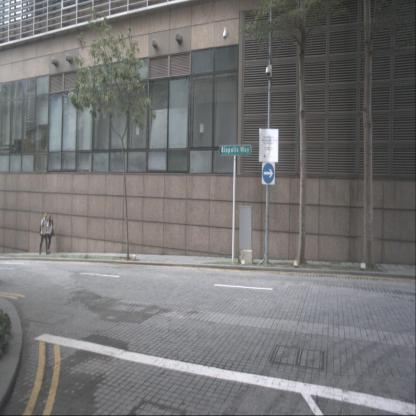human-pedestrian-adult: (39, 211, 49, 255), (46, 214, 55, 255)
